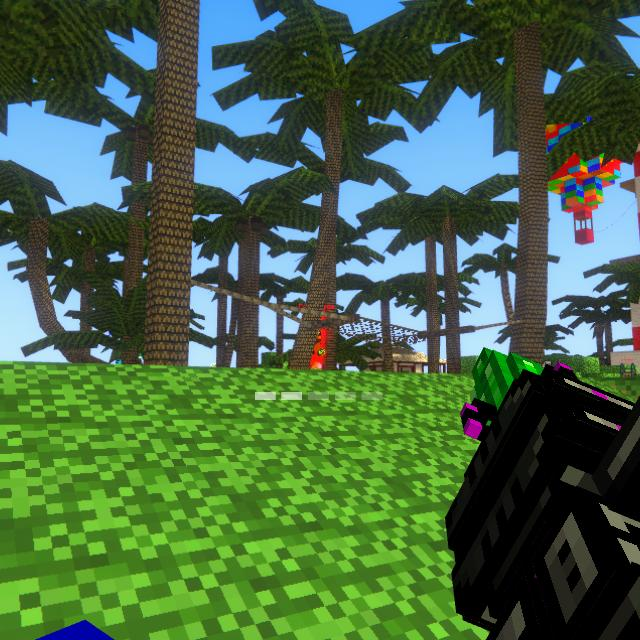Enemy: (309, 316, 328, 369)
